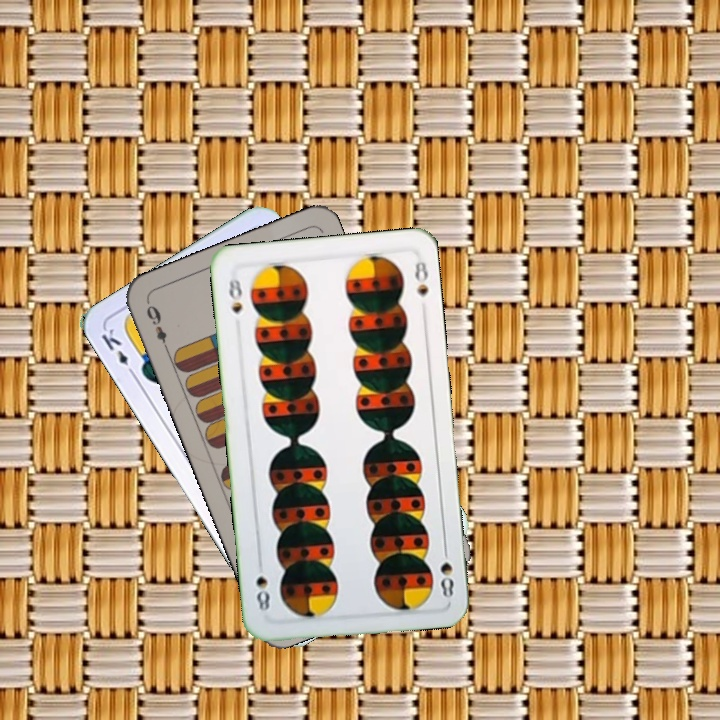E9: (142, 298, 172, 355)
EK: (97, 324, 139, 380)
S8: (436, 541, 457, 601), (225, 270, 245, 317)
